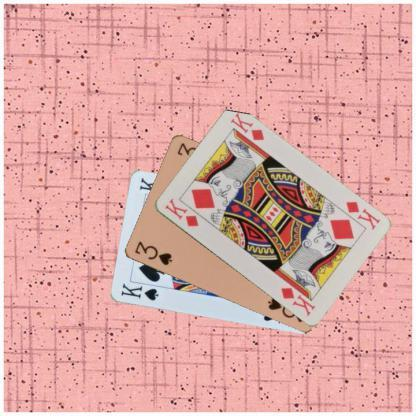3s: (132, 238, 173, 268)
Kd: (342, 198, 382, 232), (162, 195, 200, 228)
Ks: (118, 280, 160, 302)
